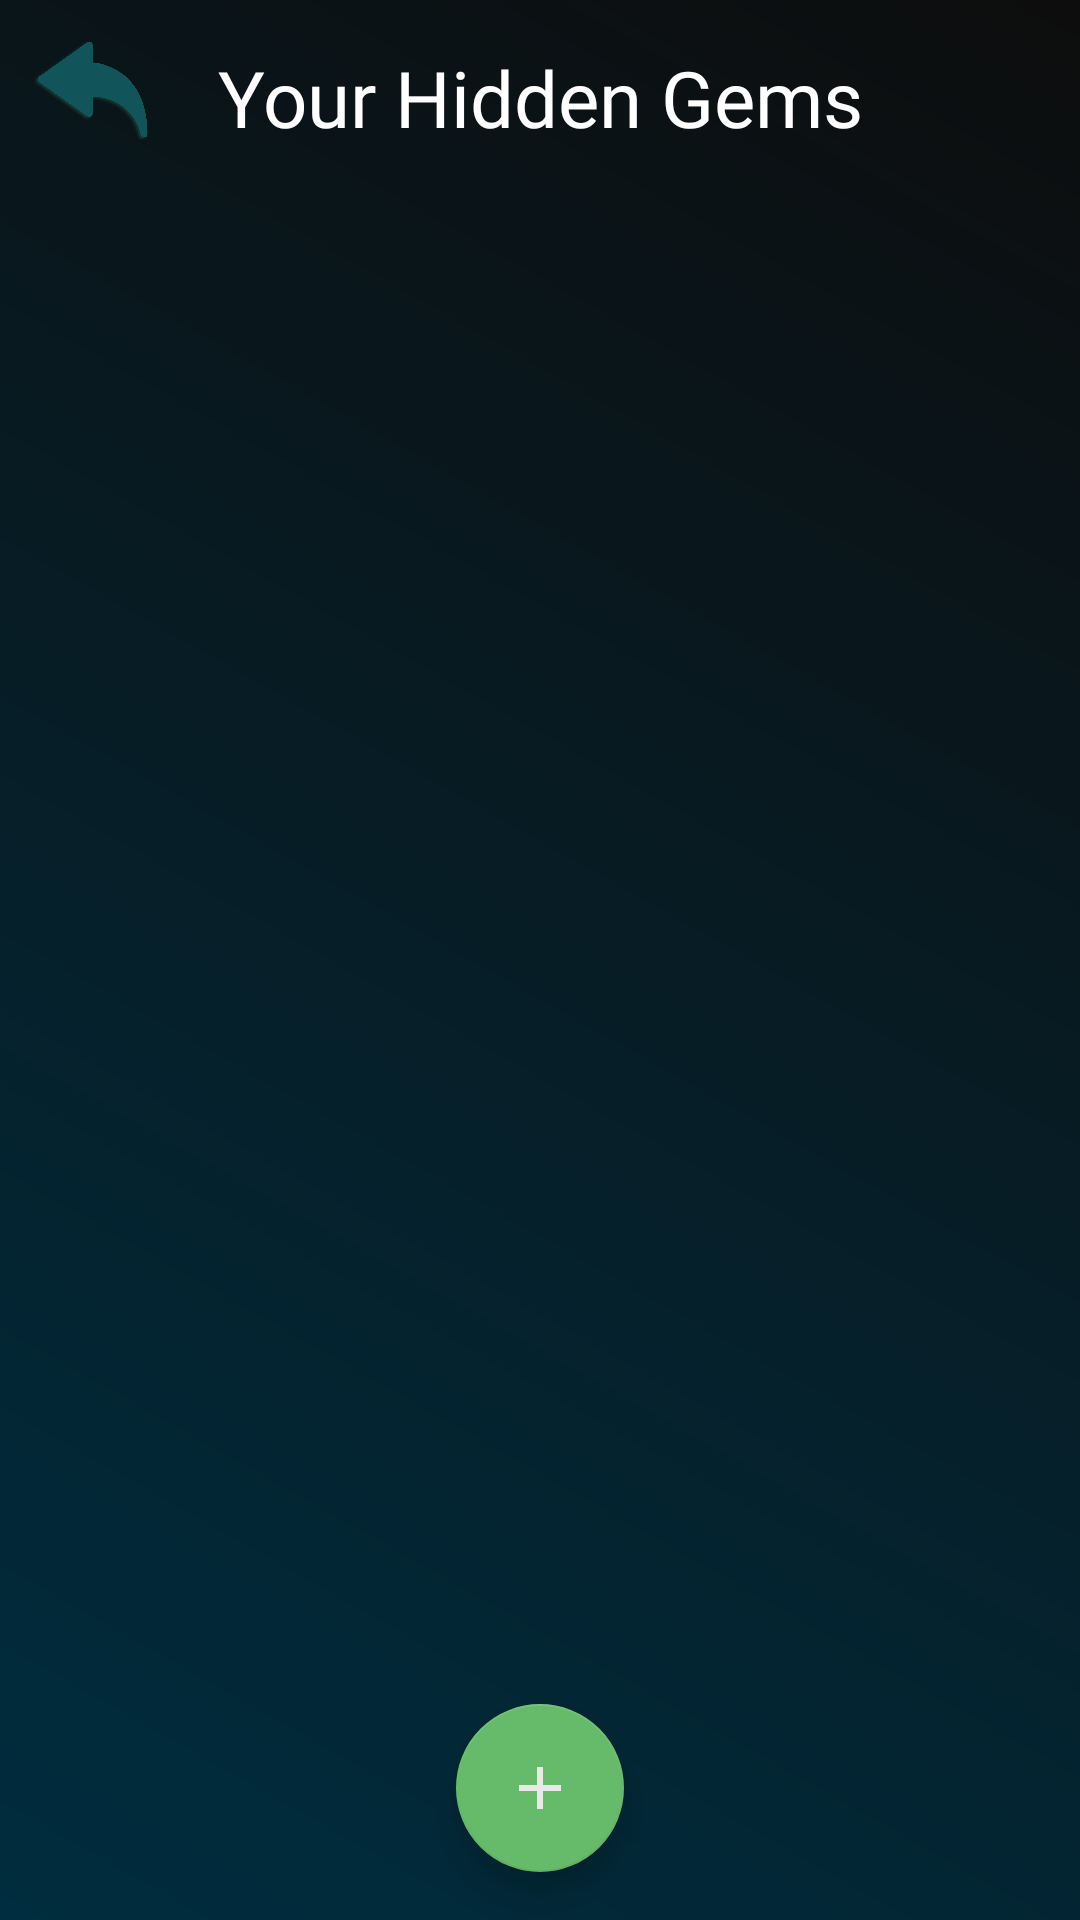

Named icons in this screenshot (1080w x 1920h) and their centers, (x=x, y=y):
add: (x=540, y=1788)
back arrow: (x=92, y=90)
